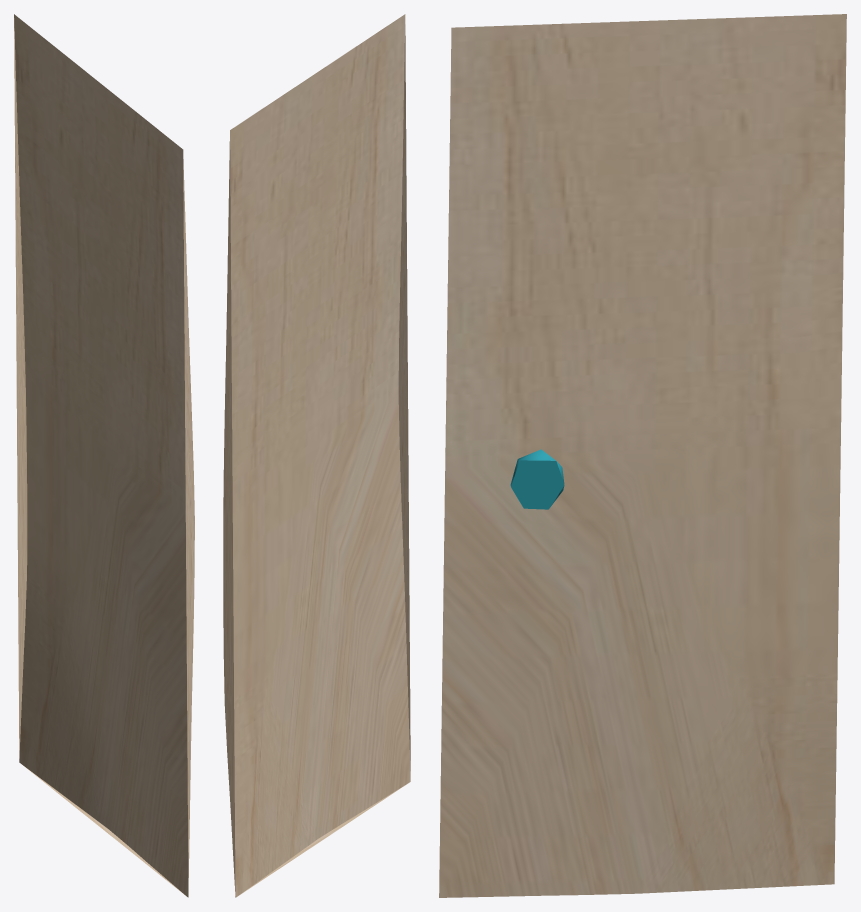
The model's file is AlaPuerta2.obj.
The picture shows the model from 3 angles, left to right: view 1: azimuth 30°, elevation 25°; view 2: azimuth 150°, elevation 25°; view 3: azimuth 270°, elevation 25°; orthographic projection. The views are drawn at different scales.
Visible parts, largest first — view 1: polySurface254; view 2: polySurface254; view 3: polySurface254.
Part boxes in pixels (x1,y1,x2,y2): polySurface254: [14, 14, 194, 897]; polySurface254: [223, 14, 410, 897]; polySurface254: [439, 14, 846, 897].
Bounding box in the file's own units: 0.0475 × 1.9 × 0.793.
2 materials, 2 textured.
